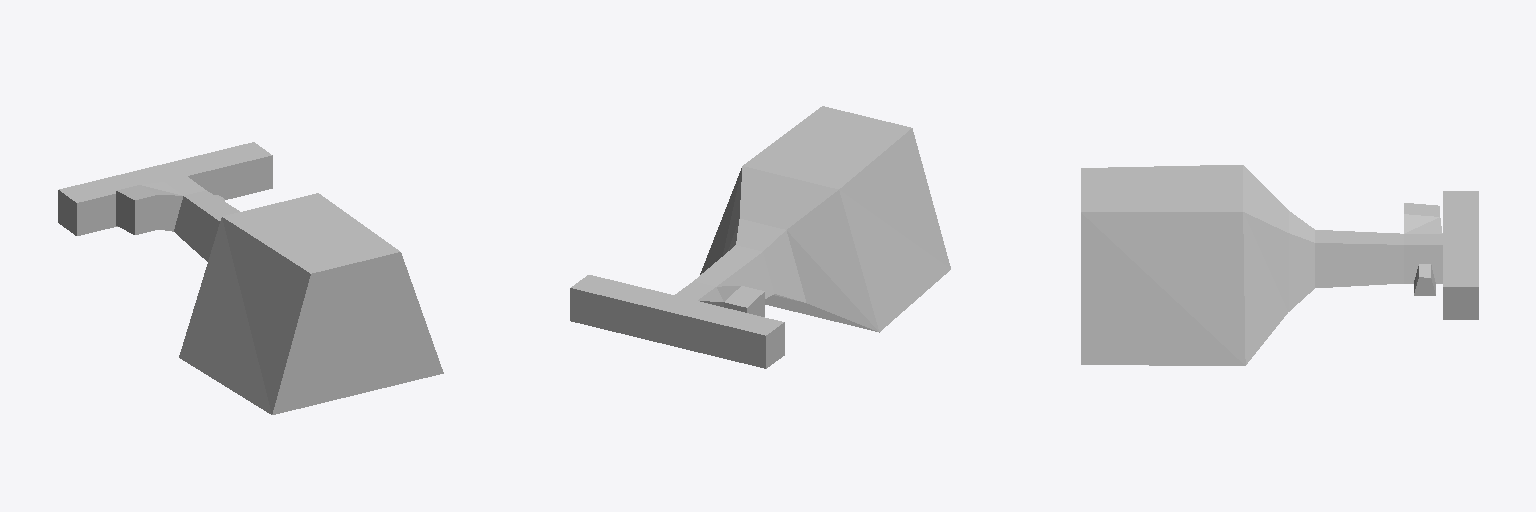
The model's file is hubWorld.obj.
The picture shows the model from 3 angles: view 1: azimuth 30°, elevation 25°; view 2: azimuth 150°, elevation 25°; view 3: azimuth 270°, elevation 25°; orthographic projection.
Parts seen in each view (by area): view 1: Cube.001, Cube; view 2: Cube.001, Cube, Cube.004; view 3: Cube.001, Cube.
Boxes of the visible parts, box(x1,y1,x2,y2) form: Cube.001: box(179, 193, 443, 414); Cube: box(58, 142, 272, 261); Cube.001: box(700, 106, 950, 331); Cube: box(570, 219, 805, 368); Cube.004: box(765, 295, 879, 332); Cube.001: box(1081, 165, 1288, 365); Cube: box(1289, 191, 1478, 319).
Size of the model in its own units: 12.29 by 7.92 by 21.68.